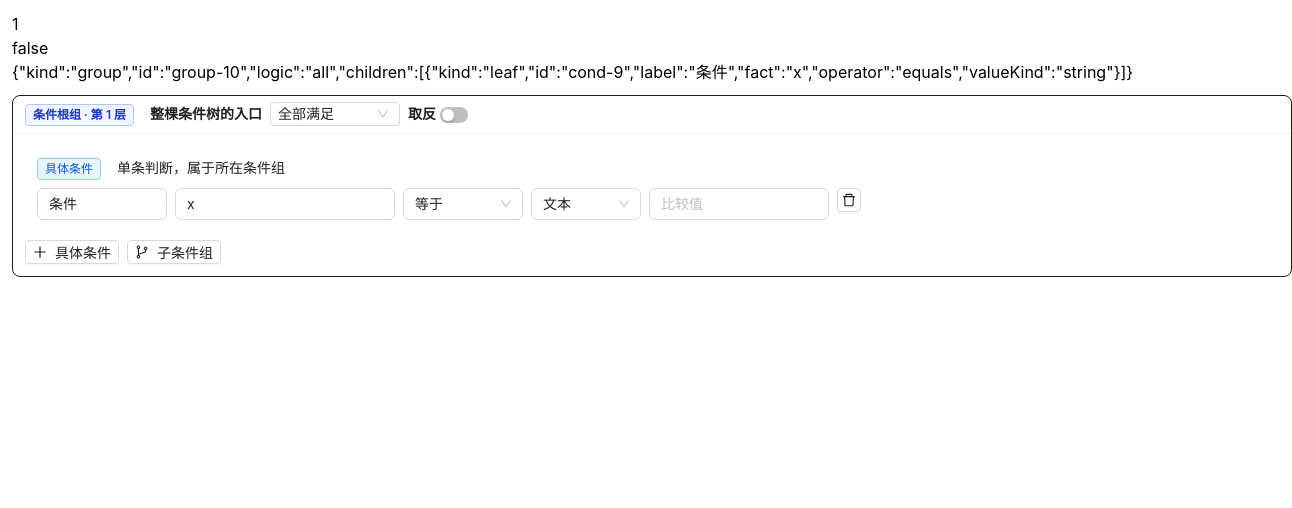
ConditionTreeEditor（P1-2 递归条件树组件） › 新增子条件组后出现嵌套组
Expected: the number of elements with test id "condition-group" is 1, [12, 94, 1291, 276]
Click the button with aria-label "新增子条件组" at (174, 252), box [127, 240, 221, 264]
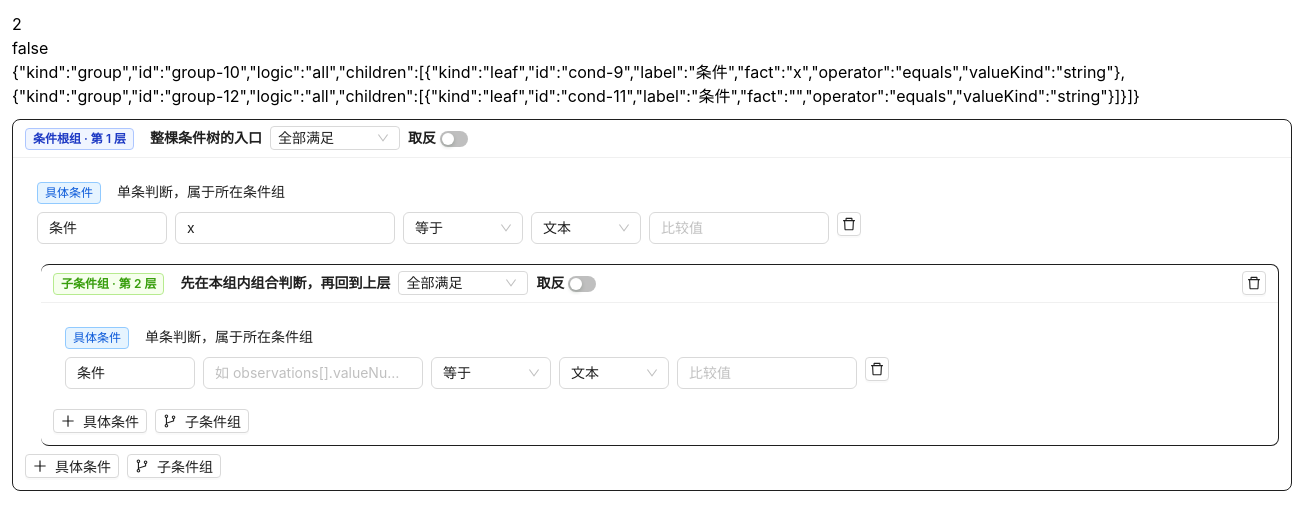
Result: the number of elements with test id "condition-group" is 2
